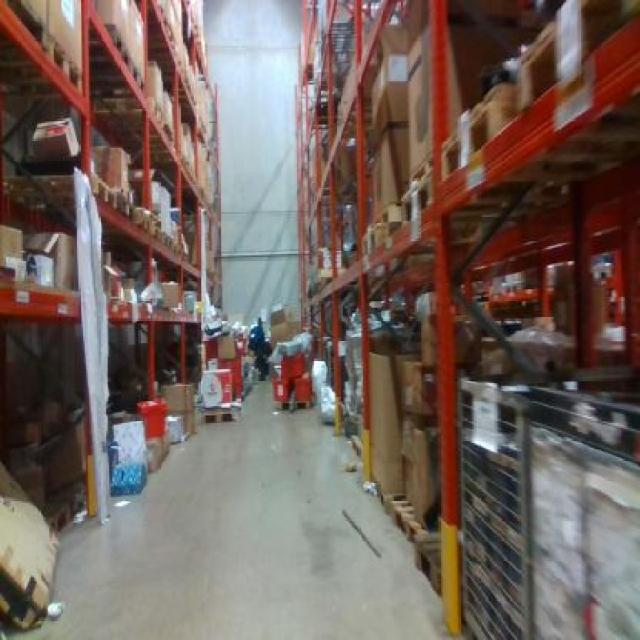pallet: (514, 0, 640, 131), (428, 71, 518, 198), (390, 167, 446, 234), (382, 484, 430, 558)
